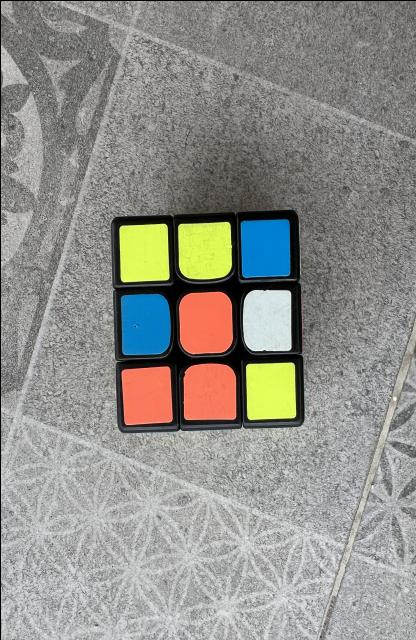Blue: (120, 292, 170, 354), (239, 219, 289, 276)
Orange: (178, 290, 232, 354), (120, 365, 172, 424), (182, 362, 235, 419)
White: (242, 289, 290, 350)
Yellow: (177, 221, 231, 279), (118, 222, 169, 281), (245, 361, 296, 419)
